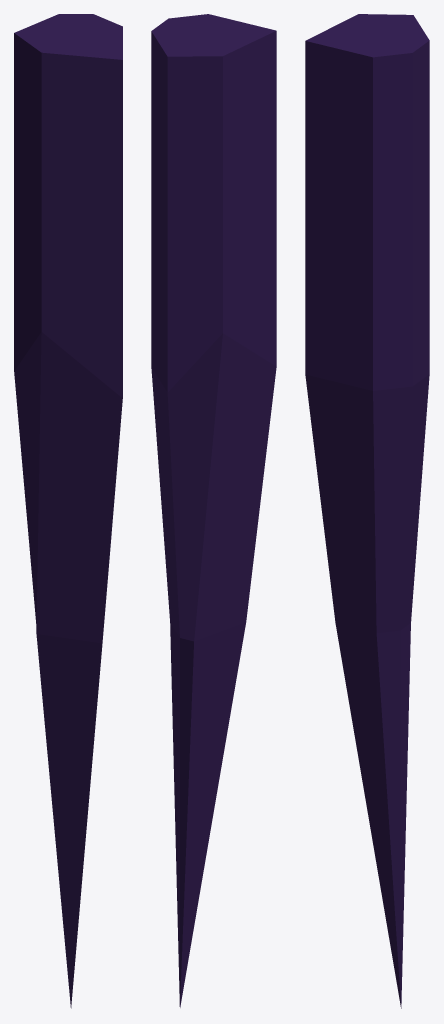
The model's file is stalactite_006_grp.fbx.
3 renders of one model, left to right at view 1: azimuth 90°, elevation 25°; view 2: azimuth 150°, elevation 25°; view 3: azimuth 330°, elevation 25°, orthographic.
Parts seen in each view (by area): view 1: stalactite_006_grp; view 2: stalactite_006_grp; view 3: stalactite_006_grp.
Boxes of the visible parts, bbox=[...] form: stalactite_006_grp: bbox=[14, 14, 122, 1008]; stalactite_006_grp: bbox=[151, 14, 276, 1007]; stalactite_006_grp: bbox=[305, 14, 429, 1008].
Size of the model in its own units: 50 by 500 by 50.
